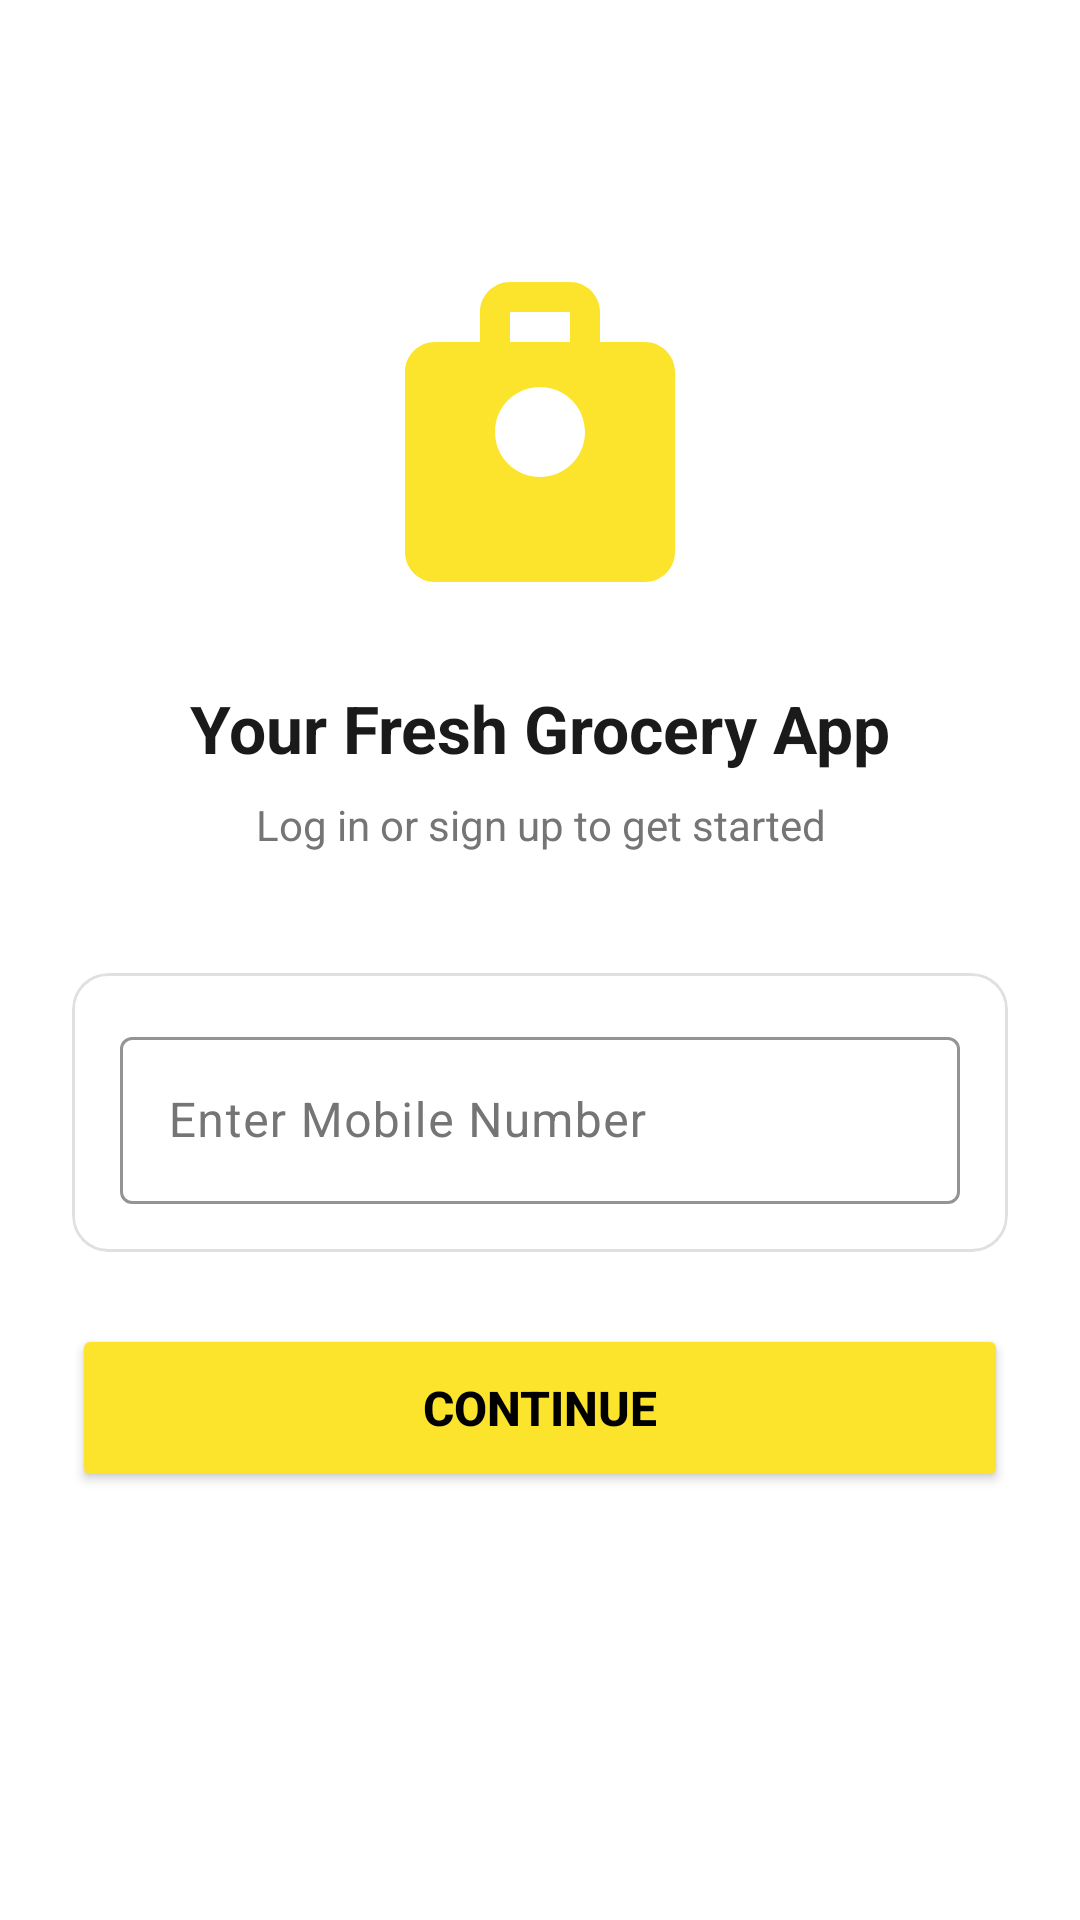

Screen size 1080 x 1920. Icon name, then its center in pixels as (x=x, y=y):
grocery bag: (x=540, y=432)
